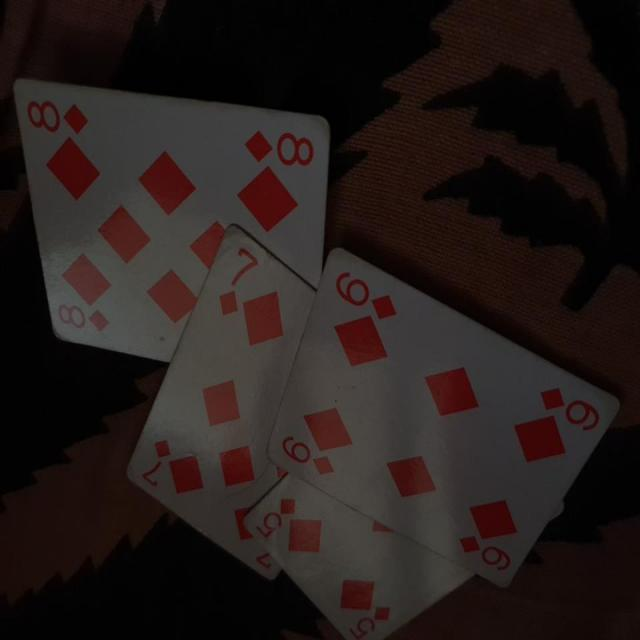5 Diamonds: (244, 469, 476, 640)
6 Diamonds: (267, 242, 620, 597)
7 Diamonds: (125, 222, 317, 582)
8 Diamonds: (13, 76, 331, 360)
